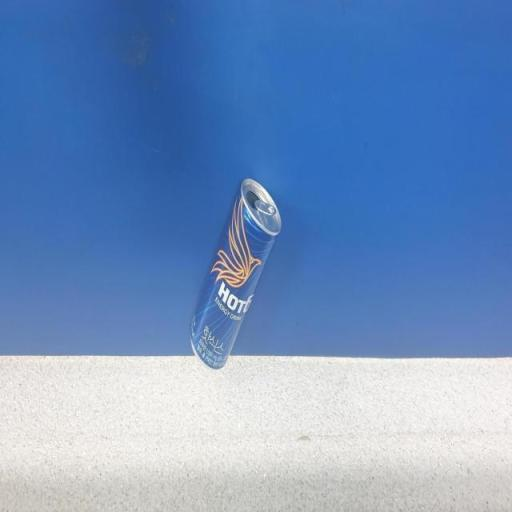metal: (179, 172, 289, 383)
